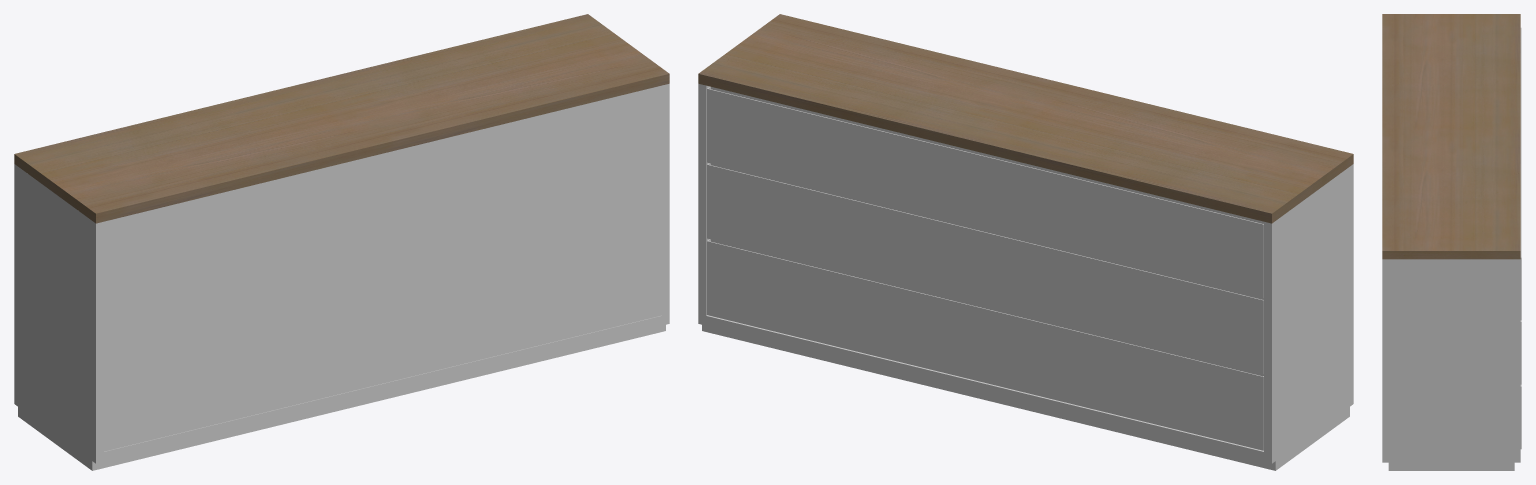
File: kast.fbx
3 views of the same model, side by side, from view 1: azimuth 30°, elevation 25°; view 2: azimuth 150°, elevation 25°; view 3: azimuth 270°, elevation 25° (orthographic). The views are drawn at different scales.
Visible parts, largest first — view 1: abciuppa_sideboards_007; view 2: abciuppa_sideboards_007; view 3: abciuppa_sideboards_007.
Boxes of the visible parts, x1=… form: abciuppa_sideboards_007: x1=14, y1=14, x2=669, y2=470; abciuppa_sideboards_007: x1=698, y1=14, x2=1353, y2=470; abciuppa_sideboards_007: x1=1382, y1=14, x2=1521, y2=470.
Size of the model in its own units: 183 by 79 by 45.25.
